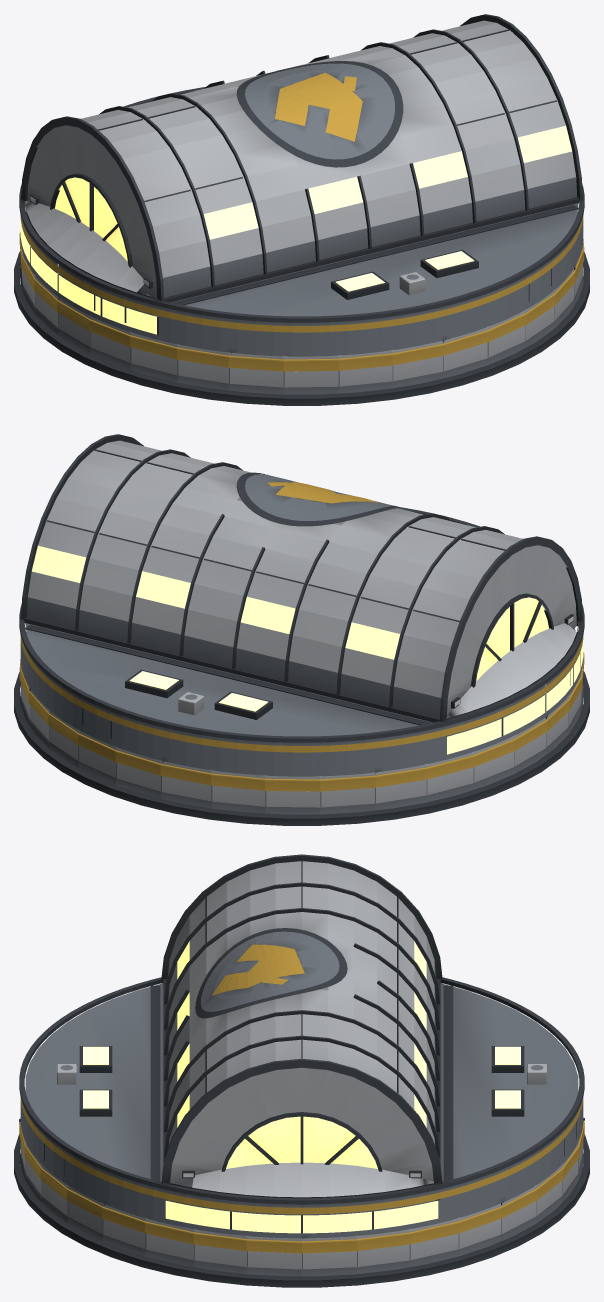
The model's file is residence_tube_m_far.glb.
3 renders of one model, top to bottom at view 1: azimuth 30°, elevation 25°; view 2: azimuth 150°, elevation 25°; view 3: azimuth 270°, elevation 25°, orthographic.
Visible parts, largest first — view 1: Roof, Base; view 2: Roof, Base; view 3: Roof, Base.
Part boxes in pixels (bbox=[...]): Roof: bbox=[19, 14, 584, 356]; Base: bbox=[14, 232, 589, 405]; Roof: bbox=[19, 434, 584, 776]; Base: bbox=[14, 627, 589, 825]; Roof: bbox=[19, 854, 584, 1238]; Base: bbox=[14, 1117, 589, 1287].
Bounding box in the file's own units: 17.76 × 7.1 × 17.76.
